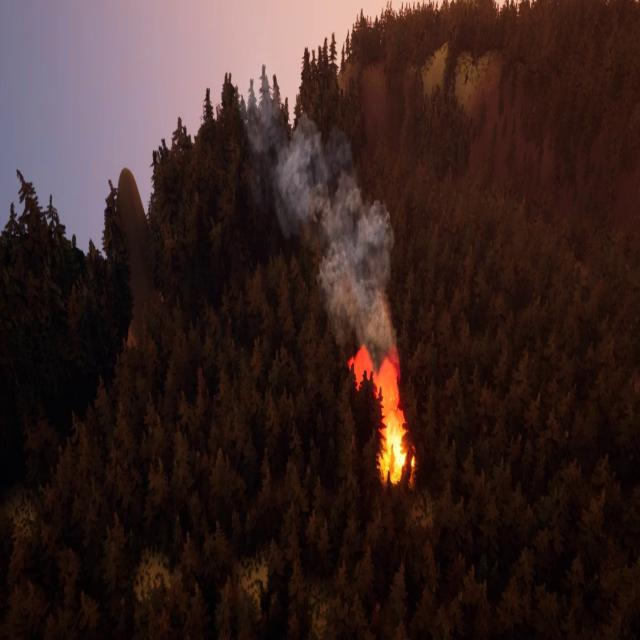fire: (349, 337, 416, 478)
smoke: (243, 68, 402, 378)
